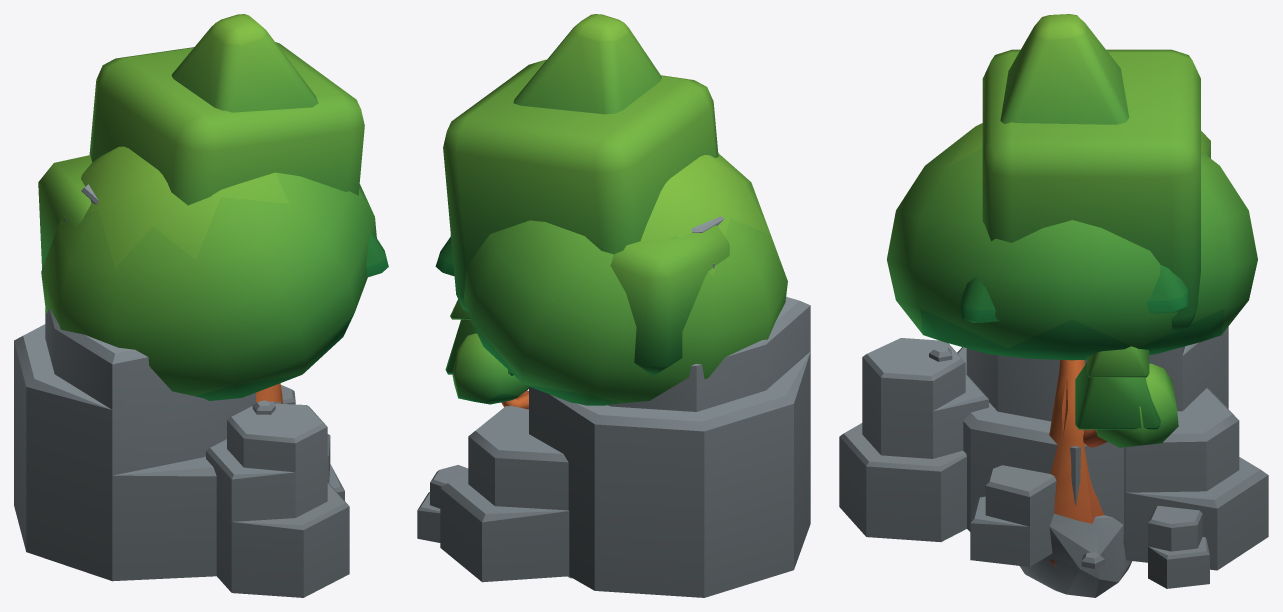
File: scenery.glb
3 renders of one model, left to right at view 1: azimuth 30°, elevation 25°; view 2: azimuth 150°, elevation 25°; view 3: azimuth 270°, elevation 25°, orthographic. The views are drawn at different scales.
Parts seen in each view (by area): view 1: Rock_1_J_Color1, Tree_1_A_Color1, Tree_2_A_Color1, Tree_4_A_Color1; view 2: Rock_1_J_Color1, Tree_1_A_Color1, Tree_2_A_Color1, Tree_4_A_Color1; view 3: Rock_1_J_Color1, Tree_1_A_Color1, Tree_2_A_Color1, Tree_4_A_Color1, Rock_3_F_Color1.
Part boxes in pixels (x1,y1,x2,y2): Rock_1_J_Color1: [14, 184, 349, 597]; Tree_1_A_Color1: [41, 146, 376, 403]; Tree_2_A_Color1: [38, 42, 364, 268]; Tree_4_A_Color1: [171, 14, 388, 277]; Rock_1_J_Color1: [417, 216, 810, 597]; Tree_1_A_Color1: [450, 153, 787, 409]; Tree_2_A_Color1: [443, 59, 729, 376]; Tree_4_A_Color1: [435, 14, 661, 398]; Rock_1_J_Color1: [839, 326, 1268, 588]; Tree_1_A_Color1: [887, 123, 1257, 566]; Tree_2_A_Color1: [982, 49, 1210, 332]; Tree_4_A_Color1: [960, 14, 1188, 447]; Rock_3_F_Color1: [1020, 513, 1132, 597].
Size of the model in its own units: 3.47 by 5.52 by 3.76.
1 material, 1 textured.
